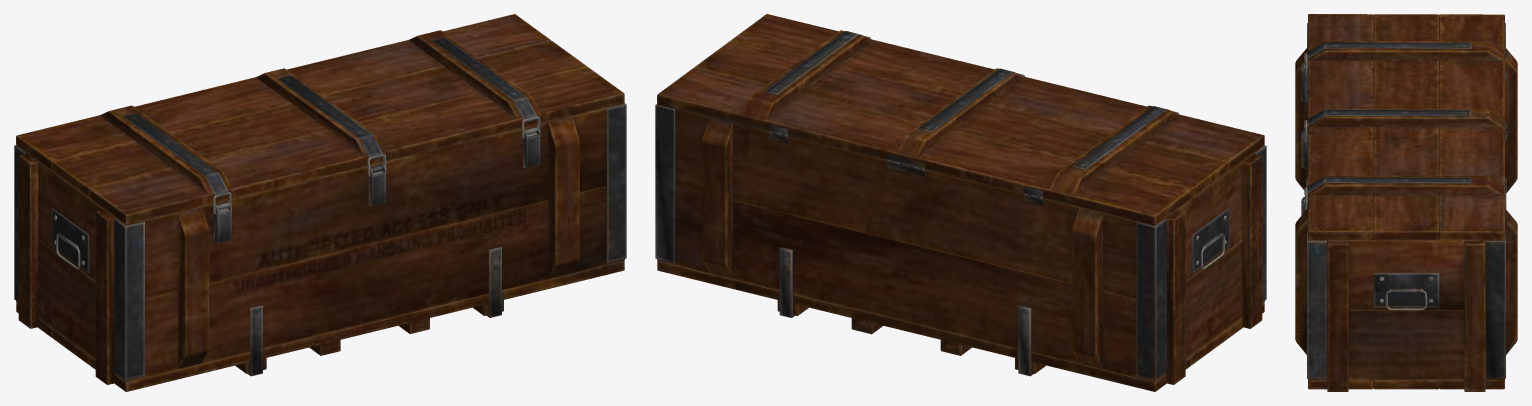
Rendered from wooden_military_crate.glb.
The picture shows the model from 3 angles, left to right: view 1: azimuth 30°, elevation 25°; view 2: azimuth 150°, elevation 25°; view 3: azimuth 270°, elevation 25°; orthographic projection. The views are drawn at different scales.
Visible parts, largest first — view 1: wooden_military_crate, wooden_military_crate_lid; view 2: wooden_military_crate, wooden_military_crate_lid; view 3: wooden_military_crate_lid, wooden_military_crate.
Boxes of the visible parts, x1,y1,x2,y2 form: wooden_military_crate: [14, 103, 626, 391]; wooden_military_crate_lid: [16, 14, 624, 224]; wooden_military_crate: [655, 104, 1266, 391]; wooden_military_crate_lid: [657, 14, 1264, 225]; wooden_military_crate_lid: [1304, 14, 1506, 240]; wooden_military_crate: [1295, 23, 1517, 391].
Size of the model in its own units: 1.24 by 0.4647 by 0.5198.
1 material, 1 textured.
